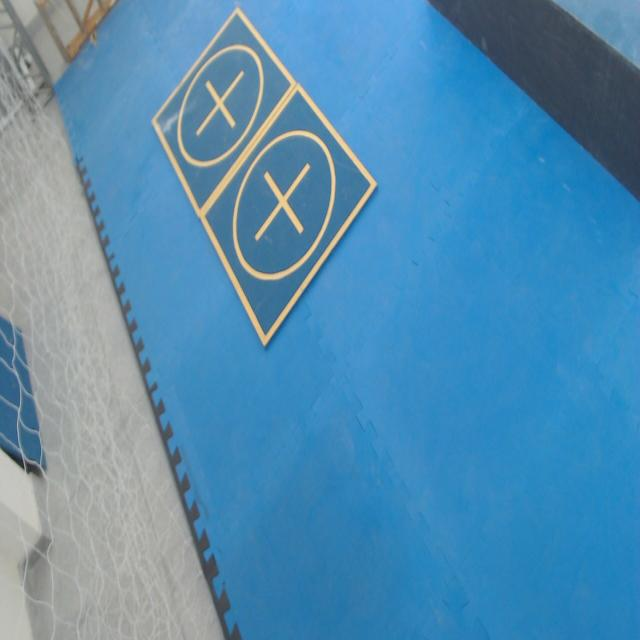base_pouso: (199, 81, 377, 351), (150, 7, 298, 220)
